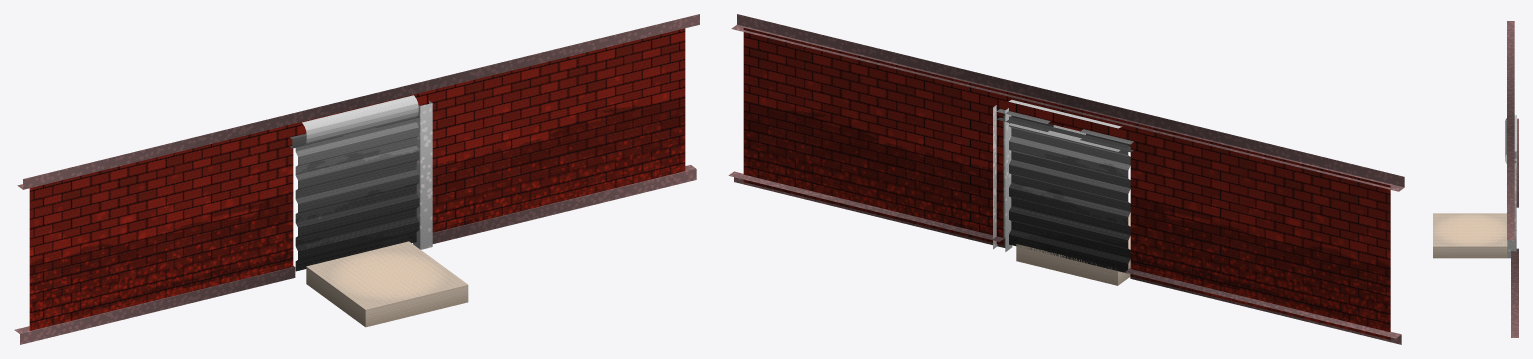
The model's file is Exterior.fbx.
3 renders of one model, left to right at view 1: azimuth 30°, elevation 25°; view 2: azimuth 150°, elevation 25°; view 3: azimuth 270°, elevation 25°, orthographic. The views are drawn at different scales.
Parts seen in each view (by area): view 1: Cube.010, Cube.007, ShutterDoor, SidewalkPiece, Cube.008; view 2: Cube.010, Cube.007, ShutterDoor, SidewalkPiece, Cube.008; view 3: SidewalkPiece, Cube.007, Cube.008.
Boxes of the visible parts, x1=… form: Cube.010: x1=29, y1=28, x2=685, y2=330; Cube.007: x1=14, y1=14, x2=699, y2=344; ShutterDoor: x1=295, y1=118, x2=419, y2=271; SidewalkPiece: x1=306, y1=241, x2=468, y2=327; Cube.008: x1=413, y1=100, x2=432, y2=249; Cube.010: x1=743, y1=28, x2=1390, y2=339; Cube.007: x1=728, y1=14, x2=1404, y2=344; ShutterDoor: x1=1009, y1=116, x2=1130, y2=273; SidewalkPiece: x1=1016, y1=214, x2=1130, y2=285; Cube.008: x1=993, y1=105, x2=1012, y2=251; SidewalkPiece: x1=1433, y1=213, x2=1507, y2=258; Cube.007: x1=1505, y1=21, x2=1518, y2=337; Cube.008: x1=1507, y1=158, x2=1516, y2=258.
Size of the model in its own units: 2632 by 660 by 435.
2 materials, 2 textured.
